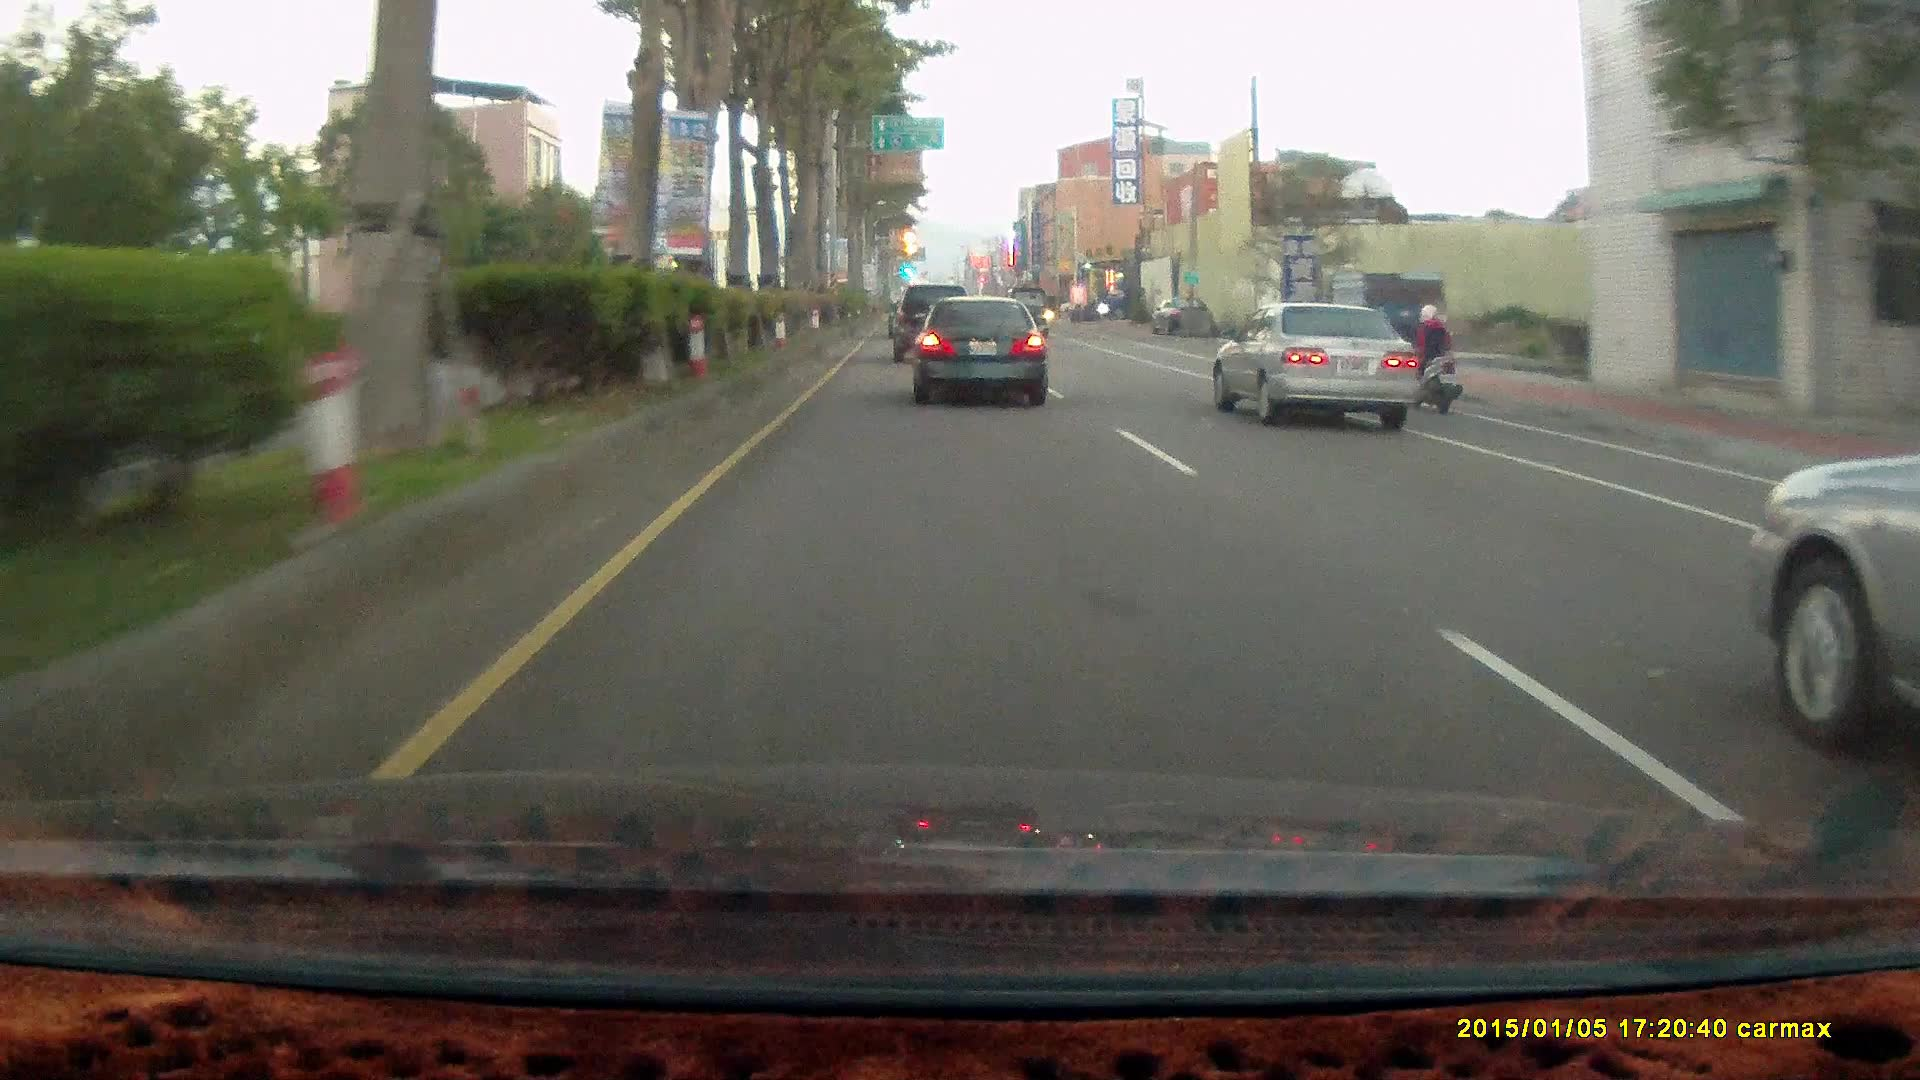rider: (1388, 295, 1471, 420), (1395, 301, 1459, 415)
vehicle: (1765, 428, 1920, 761), (1210, 301, 1420, 432), (1223, 302, 1423, 433), (908, 294, 1047, 405), (909, 296, 1048, 401), (1319, 273, 1444, 369), (889, 283, 973, 362), (889, 282, 972, 361), (1005, 286, 1050, 337), (1093, 284, 1154, 320)
